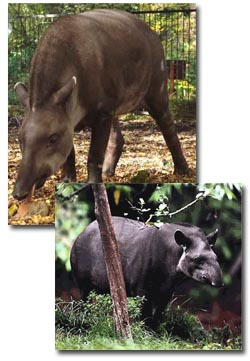Anta: (11, 6, 190, 183), (68, 208, 229, 325)
